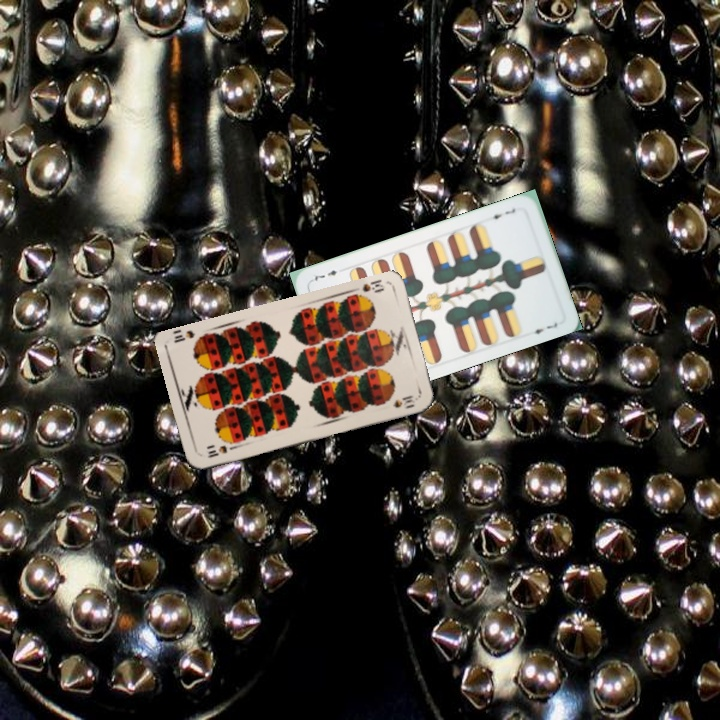E7: (485, 204, 519, 222)
S10: (203, 441, 238, 460), (358, 275, 387, 295)
